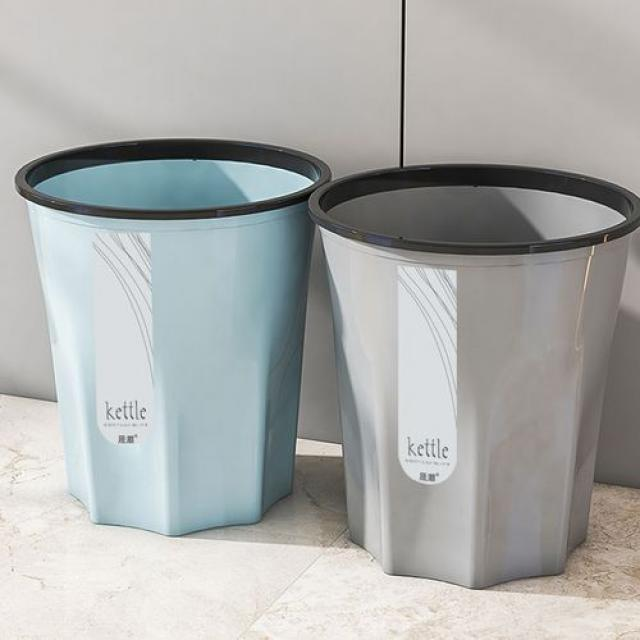Dustbin: (303, 159, 640, 595), (11, 133, 333, 542)
